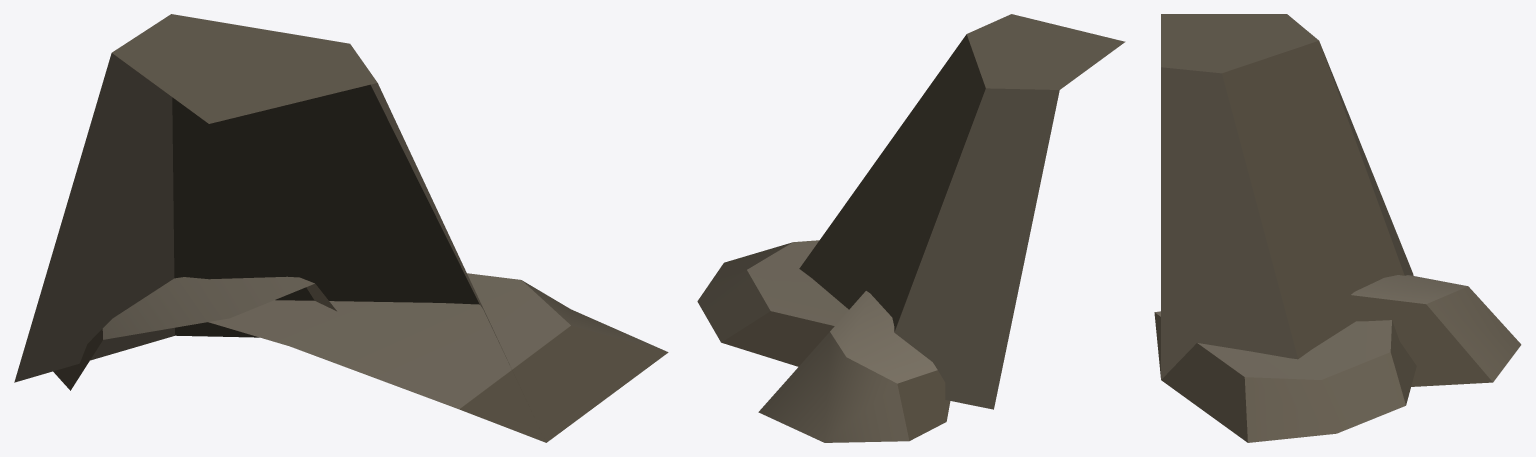
The model's file is SF_Env_RockEdge_Corner_02.fbx.
The picture shows the model from 3 angles, left to right: view 1: azimuth 30°, elevation 25°; view 2: azimuth 150°, elevation 25°; view 3: azimuth 270°, elevation 25°; orthographic projection. The views are drawn at different scales.
Visible parts, largest first — view 1: SF_Env_RockEdge_Corner_02; view 2: SF_Env_RockEdge_Corner_02; view 3: SF_Env_RockEdge_Corner_02.
Part boxes in pixels (x1,y1,x2,y2): SF_Env_RockEdge_Corner_02: (14, 14, 668, 442); SF_Env_RockEdge_Corner_02: (697, 14, 1125, 442); SF_Env_RockEdge_Corner_02: (1154, 14, 1521, 442).
Bounding box in the file's own units: 7.81 × 6.09 × 7.28.
